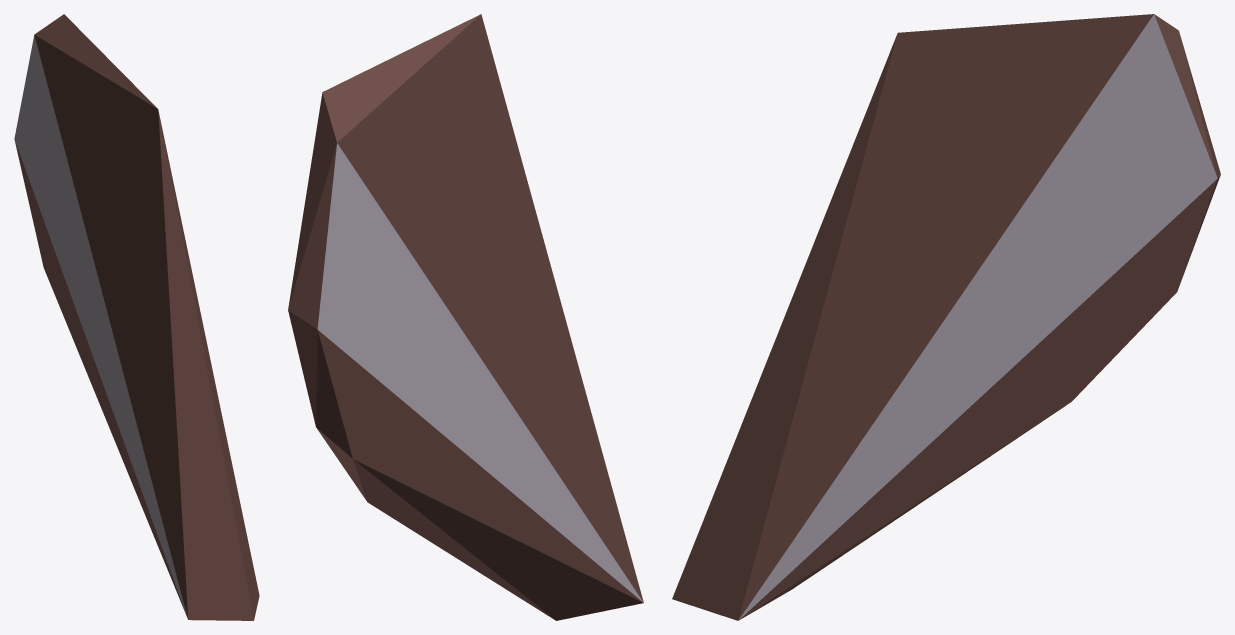
The model's file is Willow_Dead_Snow_3.lod4.glb.
3 renders of one model, left to right at view 1: azimuth 30°, elevation 25°; view 2: azimuth 150°, elevation 25°; view 3: azimuth 270°, elevation 25°, orthographic. The views are drawn at different scales.
Visible parts, largest first — view 1: Willow_Dead_Snow_3; view 2: Willow_Dead_Snow_3; view 3: Willow_Dead_Snow_3.
Part boxes in pixels (left/top/right/bottom): Willow_Dead_Snow_3: left=14, top=14, right=259, bottom=620; Willow_Dead_Snow_3: left=288, top=14, right=643, bottom=620; Willow_Dead_Snow_3: left=672, top=14, right=1220, bottom=620.
Bounding box in the file's own units: 0.3338 × 1.89 × 1.6.
